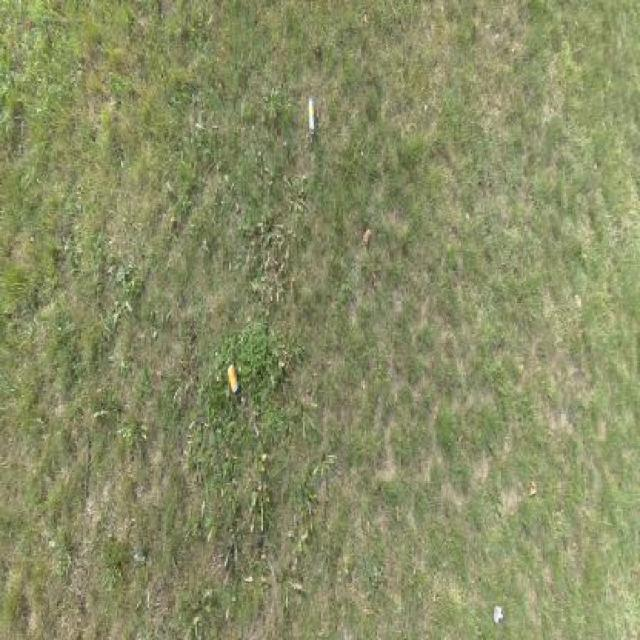Garbage: (226, 361, 238, 393), (307, 96, 315, 133)
